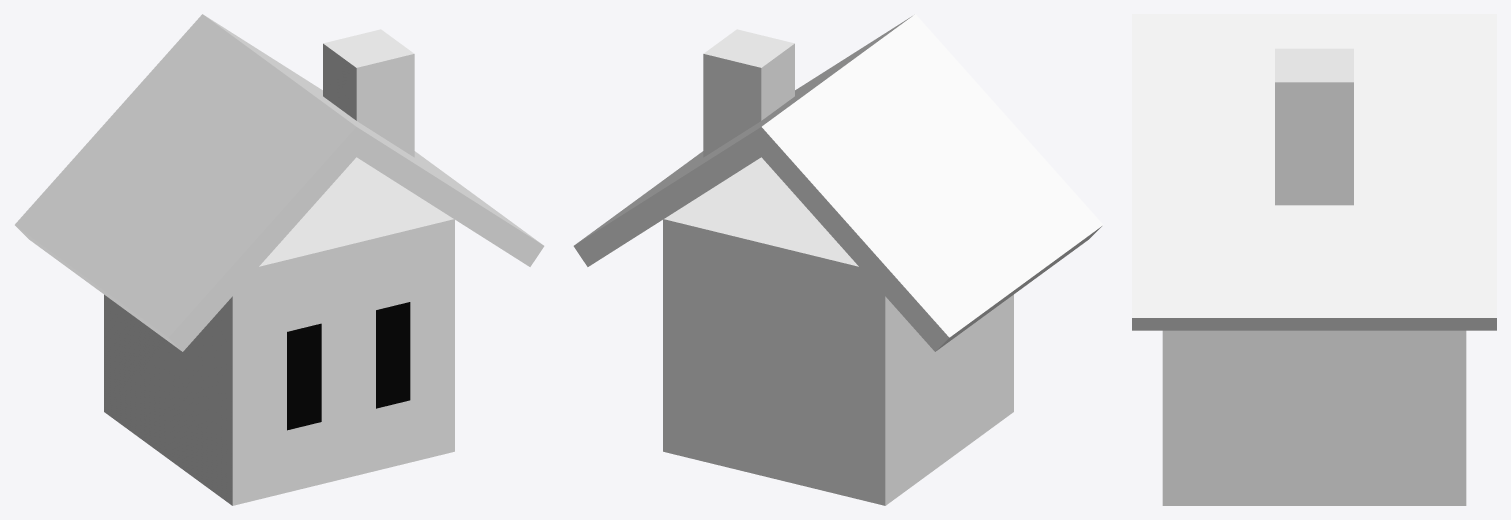
File: yane.obj
3 renders of one model, left to right at view 1: azimuth 30°, elevation 25°; view 2: azimuth 150°, elevation 25°; view 3: azimuth 270°, elevation 25°, orthographic. The views are drawn at different scales.
Parts seen in each view (by area): view 1: pCube1, pPlane6, pCube2, pPlane1, pPlane2; view 2: pCube1, pPlane6, pCube2, pPlane3; view 3: pPlane6, pCube1, pCube2.
Part boxes in pixels (x1,y1,x2,y2): pCube1: (104, 157, 454, 505); pPlane6: (15, 14, 544, 351); pCube2: (323, 29, 414, 157); pPlane1: (287, 323, 321, 430); pPlane2: (376, 302, 410, 408); pCube1: (663, 157, 1013, 505); pPlane6: (573, 14, 1102, 351); pCube2: (703, 29, 794, 157); pPlane3: (738, 331, 782, 387); pPlane6: (1132, 14, 1496, 330); pCube1: (1162, 330, 1466, 505); pCube2: (1275, 48, 1353, 205).
Bounding box in the file's own units: 8.45 × 7.77 × 6.
Materials: 2 (1 with a texture image).
